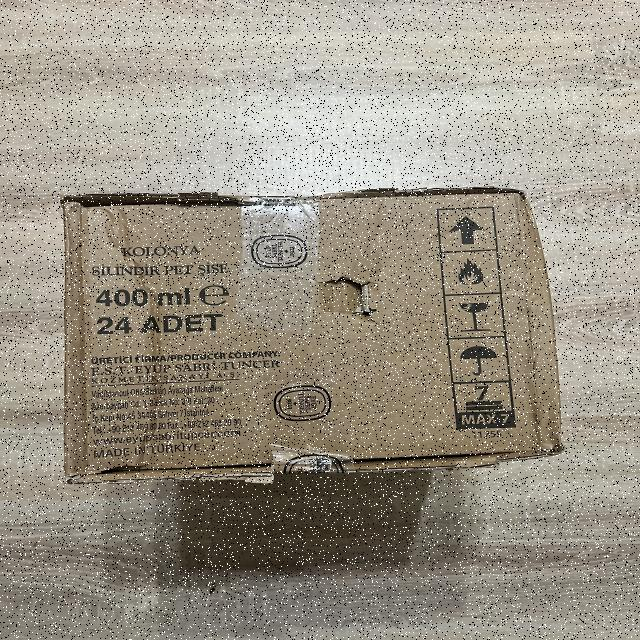damaged: (51, 186, 585, 482), (309, 268, 400, 332)
